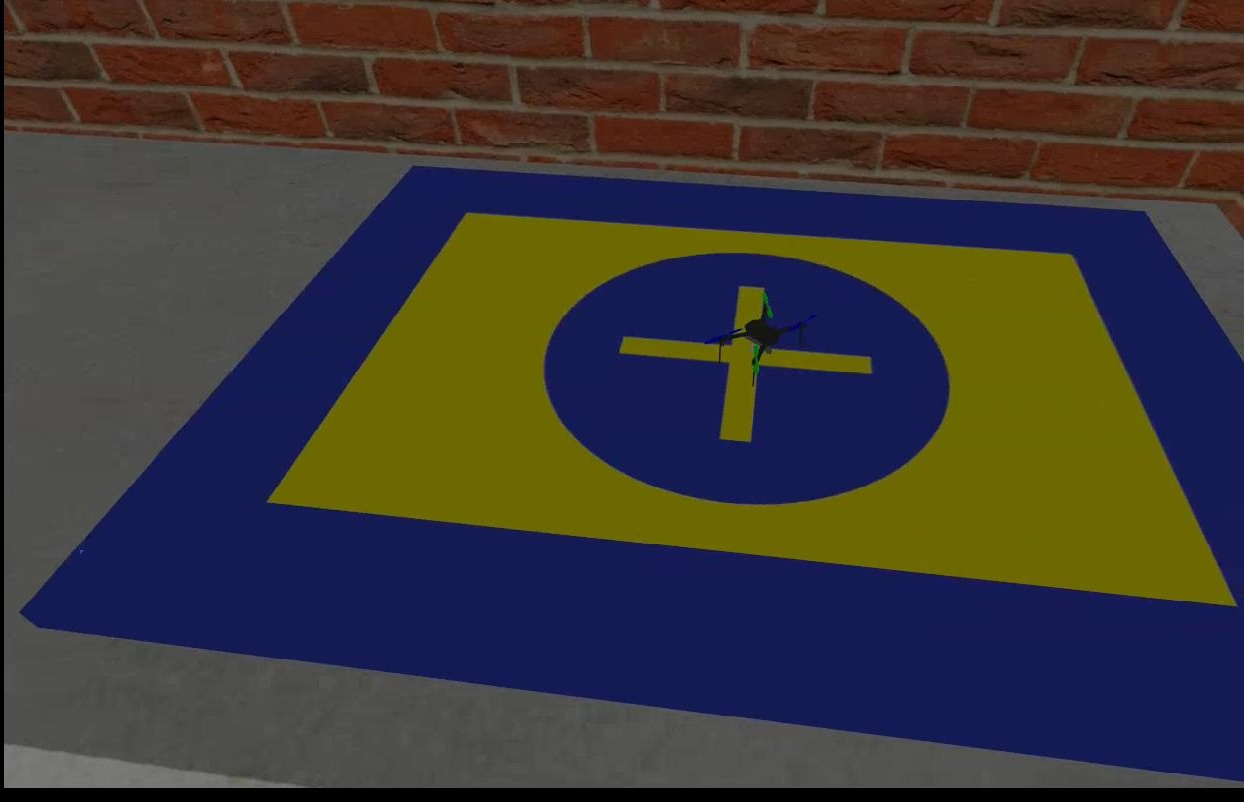large_base: (21, 166, 1242, 787)
